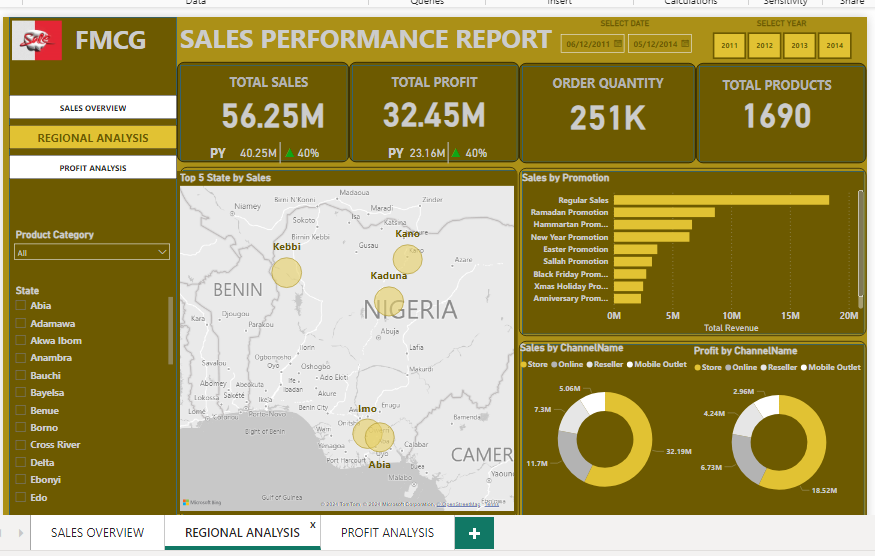

Layout of this report page (visuals, bound fields, positions):
{"tool":"powerbi","page":{"name":"REGIONAL ANALYSIS","canvas":[1440,850],"ordinal":1},"visuals":[{"type":"shape","box":[9.4,0,279.7,840.9],"z":0},{"type":"image","box":[9.4,0,92.6,77.5],"z":1000},{"type":"textbox","box":[290.2,0,645.9,67.2],"z":2000},{"type":"textbox","box":[115.3,1.9,145.5,75.6],"z":3000},{"type":"shape","box":[290.2,75.4,286.9,167.2],"z":4000},{"type":"card","fields":{"Values":["Measure.Total Revenue"]},"box":[330.6,112.5,238.1,87.6],"z":5000},{"type":"textbox","box":[367.2,88.5,165.6,67.2],"z":6000},{"type":"card","fields":{"Values":["DATE.Total Sales YoY%"]},"box":[449.2,200,118,52.5],"z":7000},{"type":"card","fields":{"Values":["Measure.Sales_icon"]},"box":[441,195.1,72.1,62.3],"z":8000},{"type":"card","fields":{"Values":["Measure.Sales_LY"]},"box":[367.2,200,118,52.5],"z":9000},{"type":"textbox","box":[339.3,206.6,55.7,37.7],"z":10000},{"type":"shape","box":[577,75.4,283.6,167.2],"z":11000},{"type":"card","fields":{"Values":["Measure.Total_Profit"]},"box":[600,111.5,237.7,86.9],"z":12000},{"type":"textbox","box":[636.1,88.5,165.6,67.2],"z":13000},{"type":"card","fields":{"Values":["Measure.Profit YoY%"]},"box":[729.7,200.2,118,52.5],"z":14000},{"type":"card","fields":{"Values":["Measure.Sales_icon"]},"box":[718.2,195.2,72.1,62.3],"z":15000},{"type":"card","fields":{"Values":["Measure.Profit_LY"]},"box":[647.7,200.2,118,52.5],"z":16000},{"type":"textbox","box":[636.1,206.6,47.5,37.7],"z":17000},{"type":"shape","box":[860.7,77,295.1,167.2],"z":18000},{"type":"card","fields":{"Values":["Sum(Sales_Data.Order Qty)"]},"box":[888.5,116.4,237.7,86.9],"z":19000},{"type":"textbox","box":[904.9,90.2,204.9,67.2],"z":20000},{"type":"textbox","box":[918,209.8,55.7,37.7],"z":21000},{"type":"shape","box":[426.2,208.2,70.5,36.1],"z":22000},{"type":"shape","box":[706.6,208.2,70.5,36.1],"z":23000},{"type":"shape","box":[1155.7,77,283.6,167.2],"z":24000},{"type":"card","fields":{"Values":["Count(Sales_Product.ProductName)"]},"box":[1170.5,113.1,237.7,86.9],"z":25000},{"type":"textbox","box":[1188.5,93.4,201.6,67.2],"z":26000},{"type":"textbox","box":[1175.4,204.9,55.7,37.7],"z":27000},{"type":"shape","box":[295.1,249.2,562.3,588.5],"z":28000},{"type":"shape","box":[860.7,252.5,578.7,280.3],"z":29000},{"type":"shape","box":[860.7,539.3,578.7,301.6],"z":30000},{"type":"slicer","title":"SELECT DATE","fields":{"Values":["DATE.Date"]},"box":[916.4,3.3,239.3,73.8],"z":31000},{"type":"slicer","title":"SELECT YEAR","fields":{"Values":["DATE.year"]},"box":[1157.4,3.3,282,73.8],"z":32000},{"type":"slicer","fields":{"Values":["Sales_Product_Sub_Cat.Product Category"]},"box":[8.2,345.9,280.3,93.4],"z":33000},{"type":"slicer","fields":{"Values":["Sales_State.State"]},"box":[8.2,439.3,280.3,380.3],"z":34000},{"type":"pageNavigator","box":[9.8,129.5,280.3,141],"z":35000},{"type":"clusteredBarChart","title":"Sales by Promotion","fields":{"Category":["Sales_Promotion.PromotionName"],"Y":["Measure.Total Revenue"]},"box":[860.7,257.4,578.7,275.4],"z":36000},{"type":"donutChart","title":"Sales by ChannelName","fields":{"Category":["Sales_Channel.ChannelName"],"Y":["Measure.Total Revenue"]},"box":[857.4,539.3,293.4,280.3],"z":37000},{"type":"donutChart","title":"Profit by ChannelName","fields":{"Category":["Sales_Channel.ChannelName"],"Y":["Measure.Total_Profit"]},"box":[1145.9,544.3,293.4,280.3],"z":38000},{"type":"map","title":"Top 5 State by Sales","fields":{"Category":["Sales_State.State"],"Size":["Measure.Total Revenue"]},"box":[290.2,257.4,567.2,572.1],"z":39000}]}

Visuals, with their boxes on the page's 1440x850 design canvas (x1, y1, x2, y2). These are canvas units, not pixel positions in the 875x556 screenshot, which may show the page scaled, cropped or inside an application window:
shape: 9,0,289,841
image: 9,0,102,78
textbox: 290,0,936,67
textbox: 115,2,261,78
shape: 290,75,577,243
card - Measure.Total Revenue: 331,112,569,200
textbox: 367,88,533,156
card - DATE.Total Sales YoY%: 449,200,567,252
card - Measure.Sales_icon: 441,195,513,257
card - Measure.Sales_LY: 367,200,485,252
textbox: 339,207,395,244
shape: 577,75,861,243
card - Measure.Total_Profit: 600,112,838,198
textbox: 636,88,802,156
card - Measure.Profit YoY%: 730,200,848,253
card - Measure.Sales_icon: 718,195,790,258
card - Measure.Profit_LY: 648,200,766,253
textbox: 636,207,684,244
shape: 861,77,1156,244
card - Sum(Sales_Data.Order Qty): 888,116,1126,203
textbox: 905,90,1110,157
textbox: 918,210,974,248
shape: 426,208,497,244
shape: 707,208,777,244
shape: 1156,77,1439,244
card - Count(Sales_Product.ProductName): 1170,113,1408,200
textbox: 1188,93,1390,161
textbox: 1175,205,1231,243
shape: 295,249,857,838
shape: 861,252,1439,533
shape: 861,539,1439,841
"SELECT DATE" slicer: 916,3,1156,77
"SELECT YEAR" slicer: 1157,3,1439,77
slicer - Sales_Product_Sub_Cat.Product Category: 8,346,288,439
slicer - Sales_State.State: 8,439,288,820
pageNavigator: 10,130,290,270
"Sales by Promotion" clusteredBarChart: 861,257,1439,533
"Sales by ChannelName" donutChart: 857,539,1151,820
"Profit by ChannelName" donutChart: 1146,544,1439,825
"Top 5 State by Sales" map: 290,257,857,830
